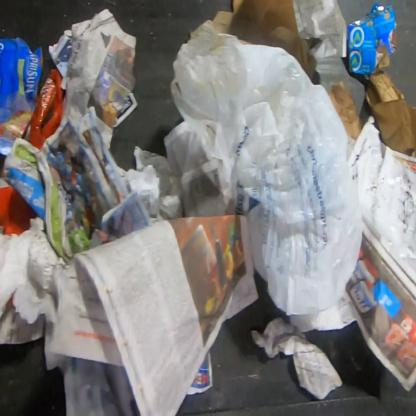cardboard: (208, 0, 318, 83), (363, 70, 415, 161), (0, 38, 41, 152), (348, 13, 396, 75), (329, 81, 363, 142)
soft_plastic: (171, 19, 364, 318), (23, 68, 63, 152), (0, 179, 31, 236)
